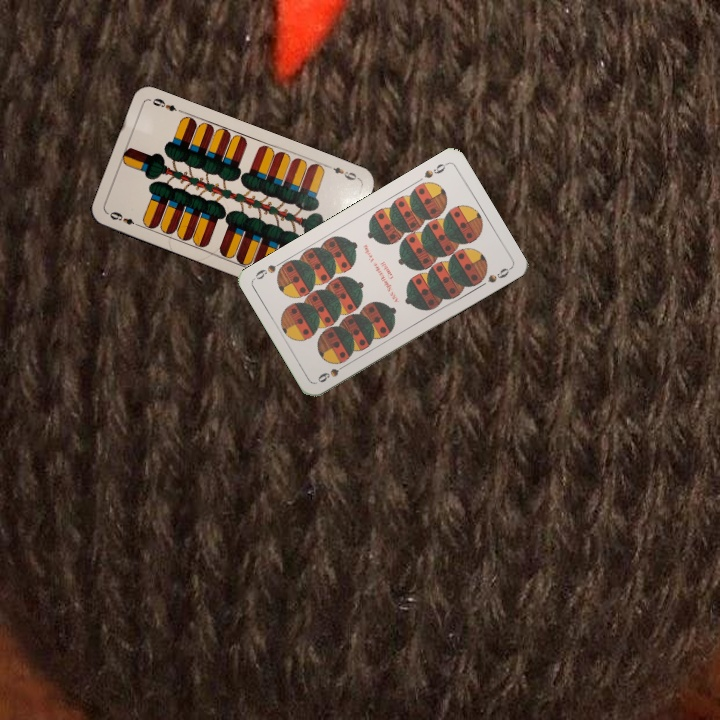E9: (104, 208, 143, 230), (324, 161, 362, 183)
S9: (314, 360, 351, 385), (420, 159, 450, 181)
